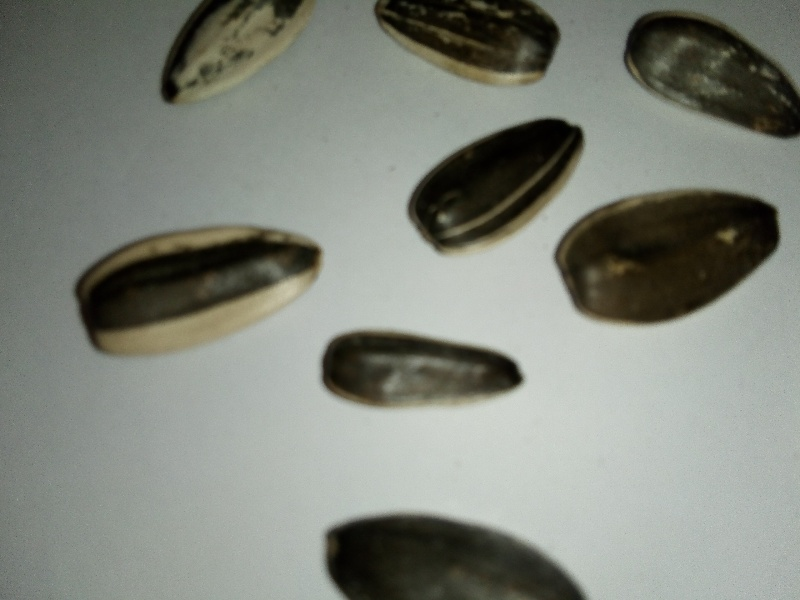girasol: (60, 201, 328, 362), (563, 187, 790, 338), (317, 324, 524, 421)
